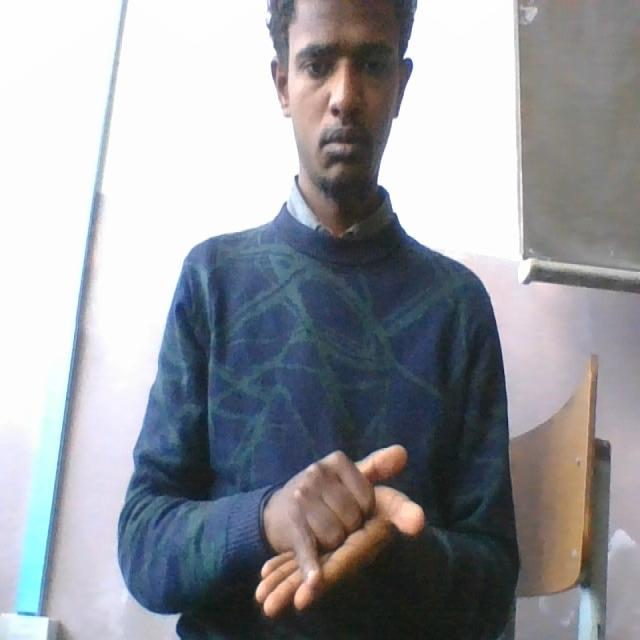keziya: (254, 440, 426, 625)
